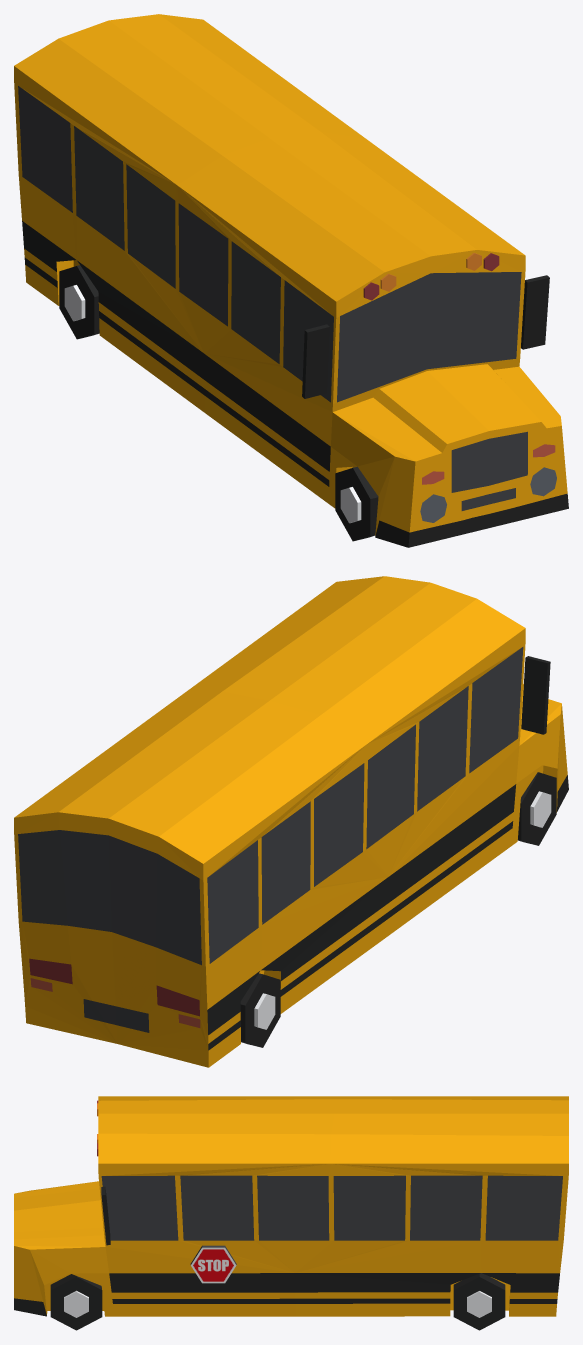
File: Vehicles_School_Bus.fbx
3 renders of one model, top to bottom at view 1: azimuth 30°, elevation 25°; view 2: azimuth 150°, elevation 25°; view 3: azimuth 270°, elevation 25°, orthographic. The views are drawn at different scales.
Visible parts, largest first — view 1: Vehicles_School_Bus; view 2: Vehicles_School_Bus; view 3: Vehicles_School_Bus.
Part boxes in pixels (box(x1,y1,x2,y2)): Vehicles_School_Bus: box(14, 14, 568, 547); Vehicles_School_Bus: box(14, 576, 568, 1067); Vehicles_School_Bus: box(14, 1096, 568, 1330).
Size of the model in its own units: 270 by 268 by 734.
